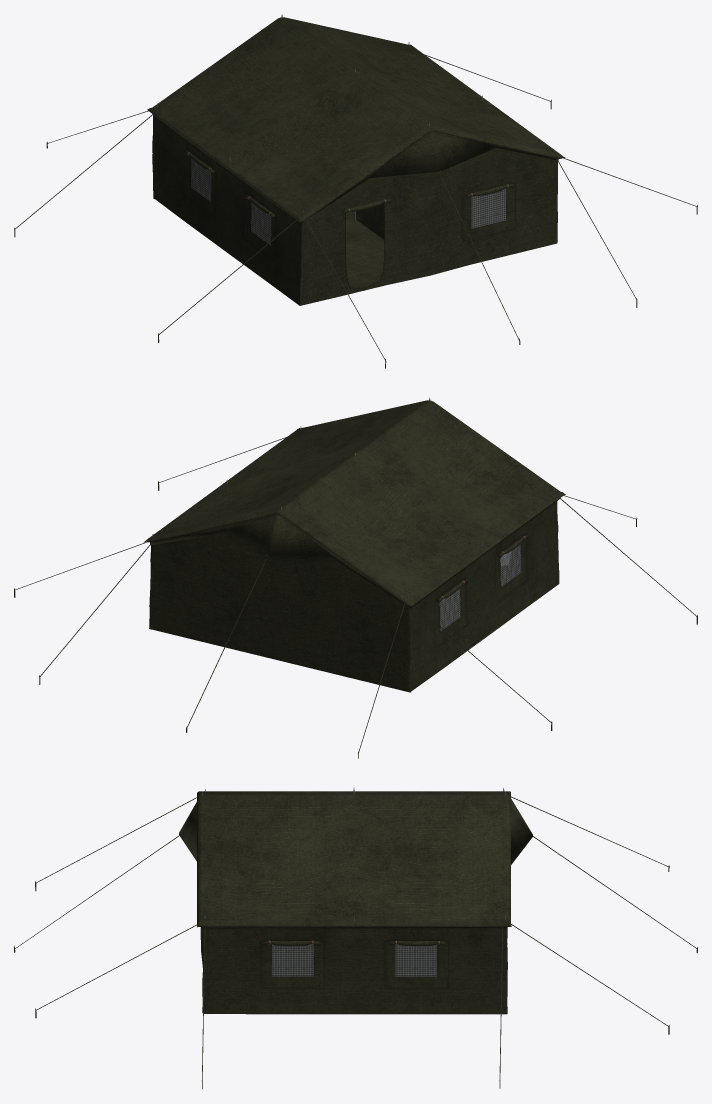
The model's file is tienda_de_lona.glb.
The picture shows the model from 3 angles, top to bottom: view 1: azimuth 30°, elevation 25°; view 2: azimuth 150°, elevation 25°; view 3: azimuth 270°, elevation 25°; orthographic projection. The views are drawn at different scales.
Parts seen in each view (by area): view 1: osnova, object 8; view 2: osnova; view 3: osnova.
Boxes of the visible parts, x1,y1,x2,y2 form: osnova: [14, 14, 697, 368]; object 8: [355, 203, 384, 239]; osnova: [14, 397, 697, 758]; osnova: [14, 788, 697, 1089].
Bounding box in the file's own units: 945 × 266 × 1010.
6 materials, 6 textured.
